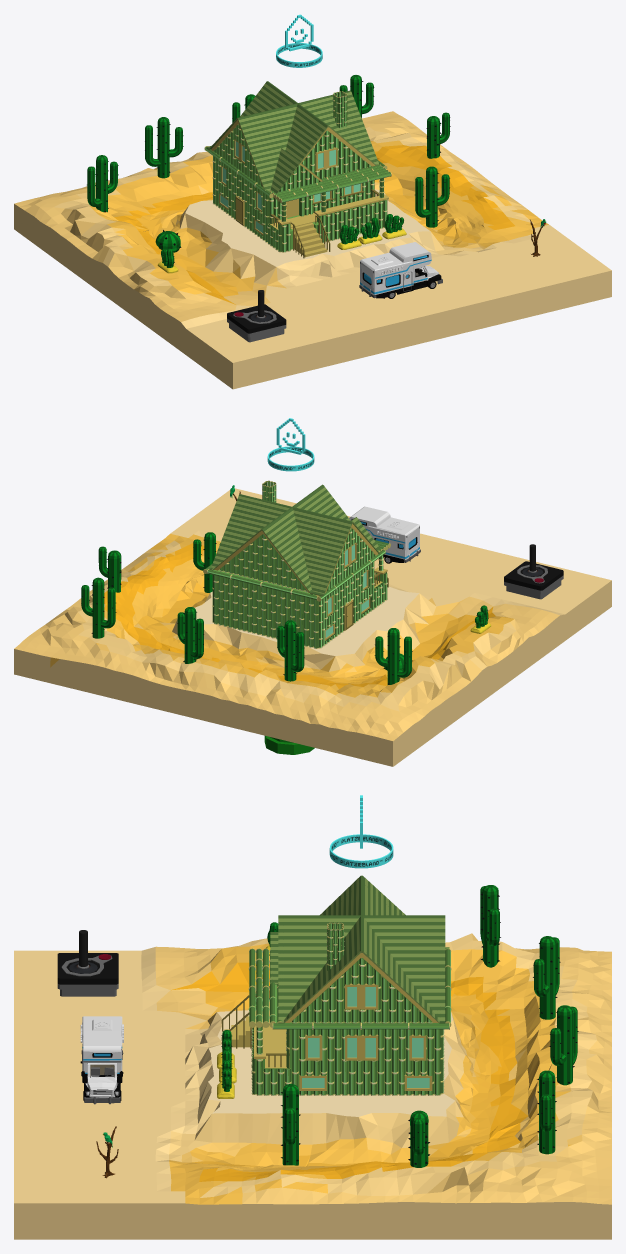
The picture shows the model from 3 angles, top to bottom: view 1: azimuth 30°, elevation 25°; view 2: azimuth 150°, elevation 25°; view 3: azimuth 270°, elevation 25°; orthographic projection. The views are drawn at different scales.
Parts seen in each view (by area): view 1: Cube.001, Cube.1327, VEHICLES_CAMPER, OBJRANDOM_JOYSTICK, Cylinder.044, Cylinder.037, Cylinder.045, TYPE_PREMIUM, Cylinder.038, Cylinder.042; view 2: Cube.001, Cube.1327, VEHICLES_CAMPER, OBJRANDOM_JOYSTICK, Cylinder.042, Cylinder.045, Cylinder.044, Cylinder.043, TYPE_PREMIUM, Cylinder.037, Cylinder.038, UNDERGROUND_PIPES; view 3: Cube.001, Cube.1327, VEHICLES_CAMPER, OBJRANDOM_JOYSTICK, Cylinder.044, Cylinder.043, Cylinder.045, Cylinder.042, Cylinder.037, TYPE_PREMIUM, Cylinder.038.
Part boxes in pixels (x1,y1,x2,y2): Cube.001: (14, 111, 611, 389); Cube.1327: (204, 81, 391, 258); VEHICLES_CAMPER: (359, 242, 442, 298); OBJRANDOM_JOYSTICK: (227, 290, 286, 342); Cylinder.044: (145, 117, 183, 178); Cylinder.037: (415, 166, 449, 227); Cylinder.045: (87, 155, 118, 212); TYPE_PREMIUM: (276, 14, 322, 67); Cylinder.038: (426, 112, 450, 158); Cylinder.042: (339, 75, 374, 118); Cube.001: (14, 488, 611, 766); Cube.1327: (203, 480, 390, 648); VEHICLES_CAMPER: (349, 506, 420, 563); OBJRANDOM_JOYSTICK: (504, 544, 563, 599); Cylinder.042: (81, 577, 116, 638); Cylinder.045: (374, 628, 412, 684); Cylinder.044: (277, 620, 304, 681); Cylinder.043: (177, 607, 203, 663); TYPE_PREMIUM: (267, 418, 314, 471); Cylinder.037: (193, 532, 220, 592); Cylinder.038: (98, 546, 121, 592); UNDERGROUND_PIPES: (264, 736, 314, 754); Cube.001: (14, 933, 611, 1239); Cube.1327: (221, 875, 451, 1095); VEHICLES_CAMPER: (80, 1016, 123, 1104); OBJRANDOM_JOYSTICK: (57, 930, 118, 996); Cylinder.044: (533, 936, 560, 1019); Cylinder.043: (549, 1005, 578, 1085); Cylinder.045: (480, 885, 500, 967); Cylinder.042: (537, 1070, 556, 1154); Cylinder.037: (281, 1084, 300, 1165); TYPE_PREMIUM: (329, 795, 393, 868); Cylinder.038: (408, 1110, 429, 1167).
Size of the model in its own units: 4002 by 3021 by 4001.
Materials: 36 (4 with a texture image).
